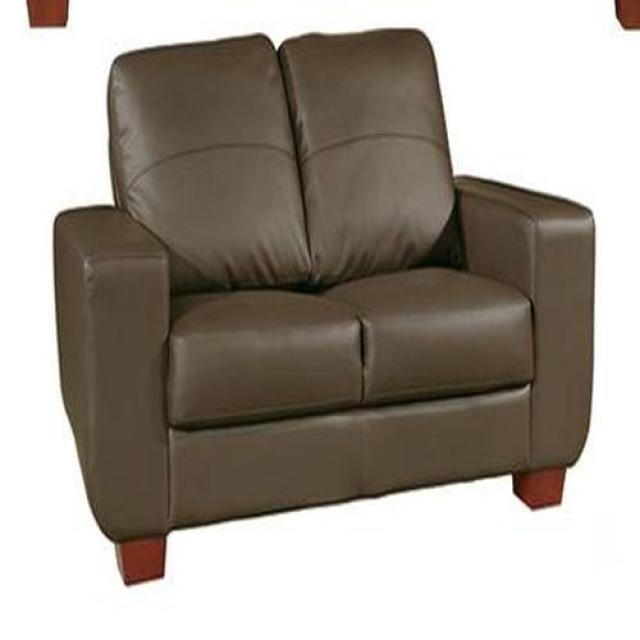sofa: (51, 28, 595, 589)
